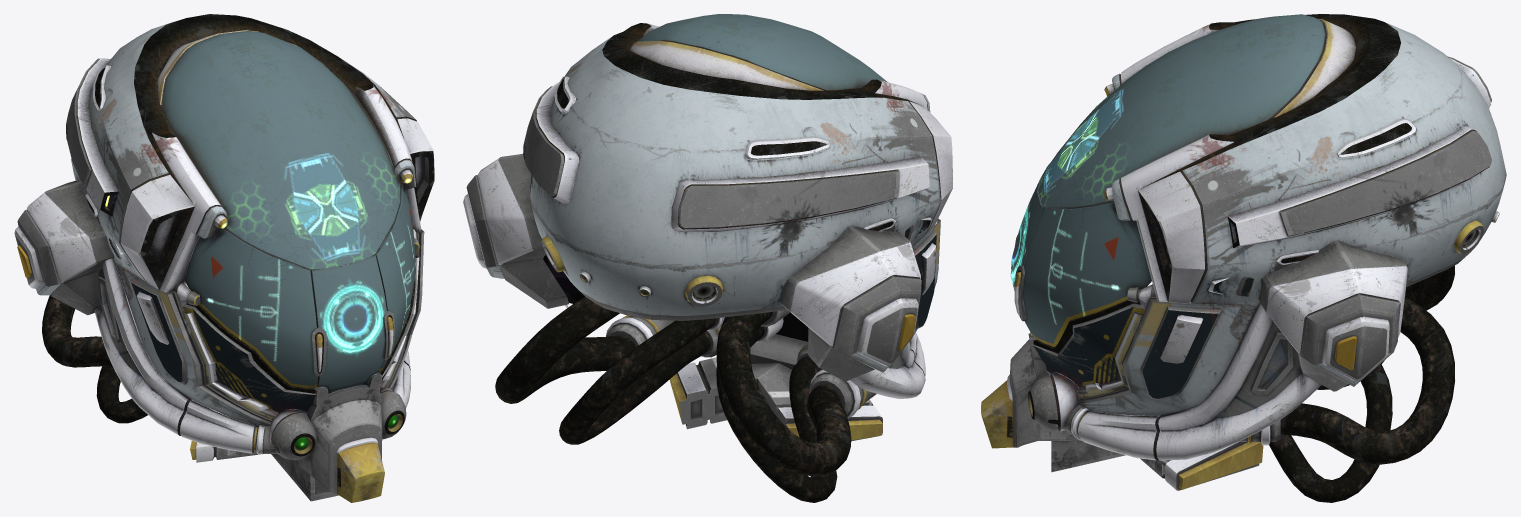
File: board-centerpiece.optimized.glb
3 renders of one model, left to right at view 1: azimuth 30°, elevation 25°; view 2: azimuth 150°, elevation 25°; view 3: azimuth 270°, elevation 25°, orthographic. The views are drawn at different scales.
Parts seen in each view (by area): view 1: node_damagedHelmet_-6514; view 2: node_damagedHelmet_-6514; view 3: node_damagedHelmet_-6514.
Part boxes in pixels (left/top/right/bottom): node_damagedHelmet_-6514: left=14, top=14, right=434, bottom=502; node_damagedHelmet_-6514: left=463, top=14, right=952, bottom=502; node_damagedHelmet_-6514: left=981, top=14, right=1506, bottom=502.
Size of the model in its own units: 1.89 by 1.8 by 2.
Materials: 1 (1 with a texture image).
